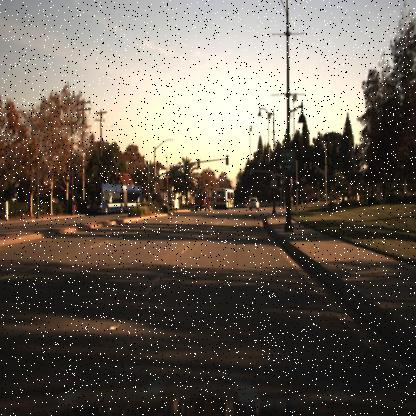car: (211, 185, 234, 209), (191, 191, 210, 215), (248, 197, 263, 212), (247, 195, 258, 213)
truck: (85, 182, 145, 220)
